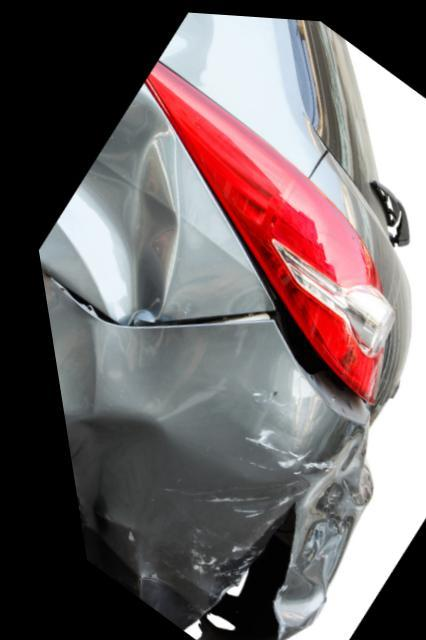dent: (51, 322, 226, 599), (48, 86, 173, 327), (254, 421, 357, 632)
dislocated part: (34, 274, 365, 640)
no part: (159, 504, 281, 640)
scratch: (167, 382, 306, 588)
